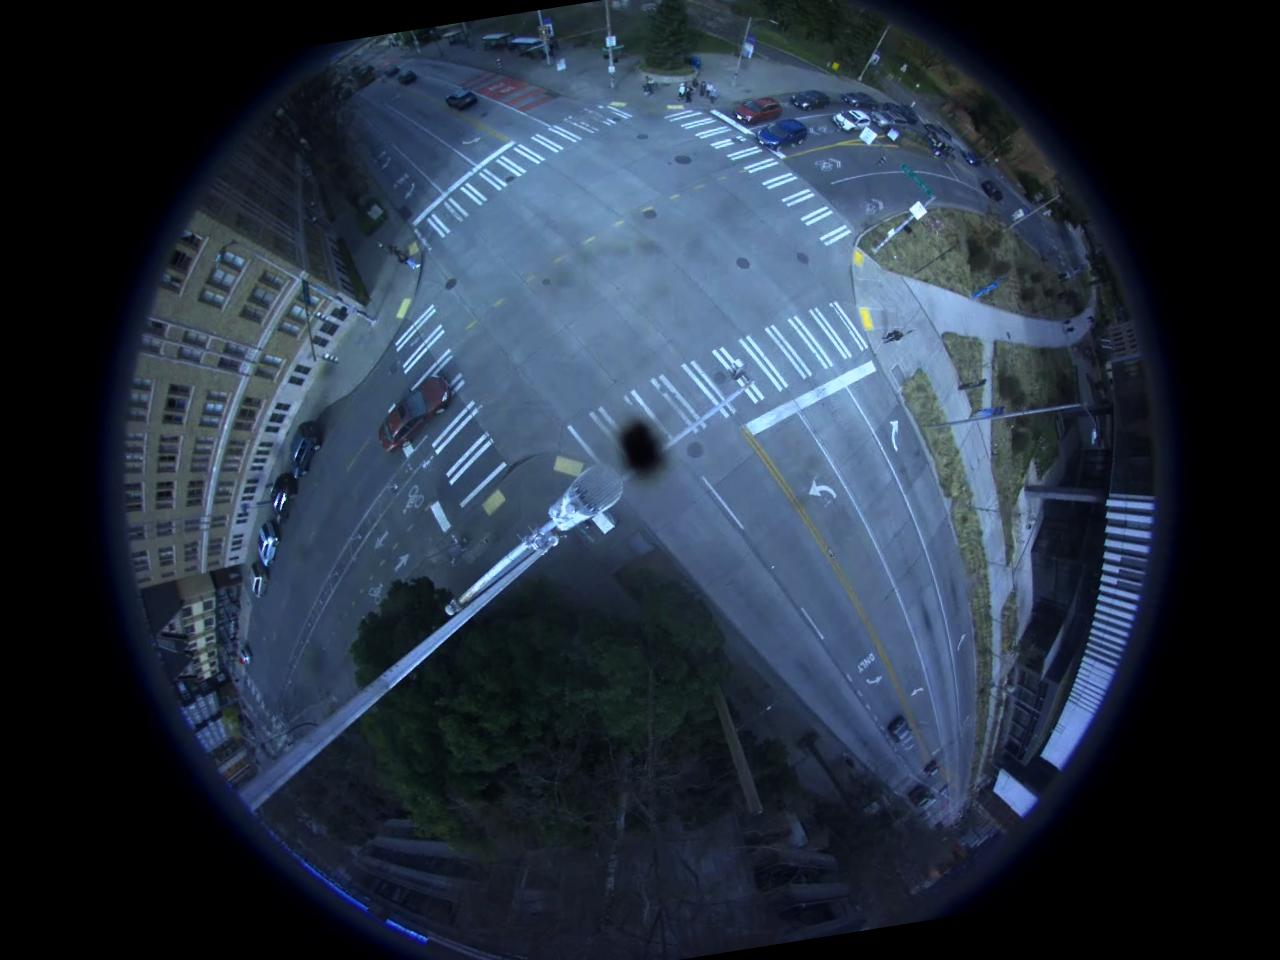car: (377, 376, 451, 448), (286, 420, 324, 478), (732, 92, 791, 126), (756, 118, 810, 154), (267, 476, 301, 523), (790, 84, 836, 114), (872, 104, 912, 137), (256, 524, 282, 568), (840, 86, 880, 109), (444, 88, 478, 114), (249, 562, 273, 598), (834, 110, 871, 132)
person: (642, 68, 664, 93), (401, 250, 423, 274), (882, 326, 908, 346), (383, 242, 402, 263), (676, 82, 688, 104), (707, 83, 719, 102), (689, 74, 701, 93), (682, 85, 694, 104), (698, 78, 708, 100)
